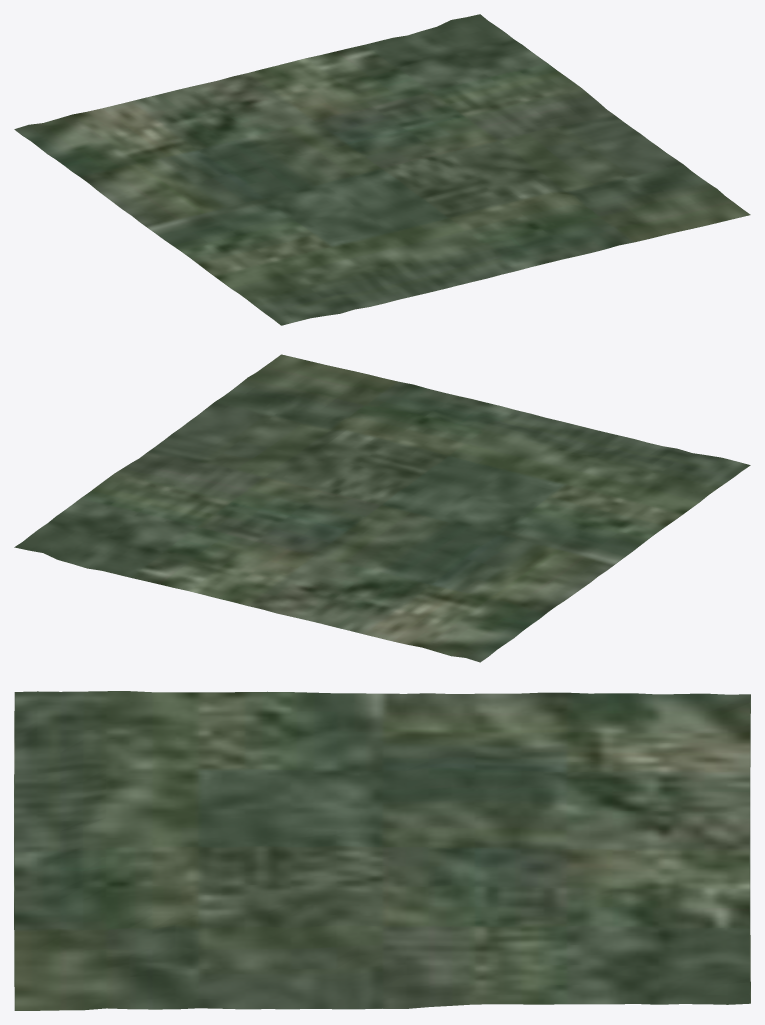
The picture shows the model from 3 angles, top to bottom: view 1: azimuth 30°, elevation 25°; view 2: azimuth 150°, elevation 25°; view 3: azimuth 270°, elevation 25°; orthographic projection. The views are drawn at different scales.
Bounding box in the file's own units: 62919 × 857 × 62479.
Materials: 1 (1 with a texture image).
